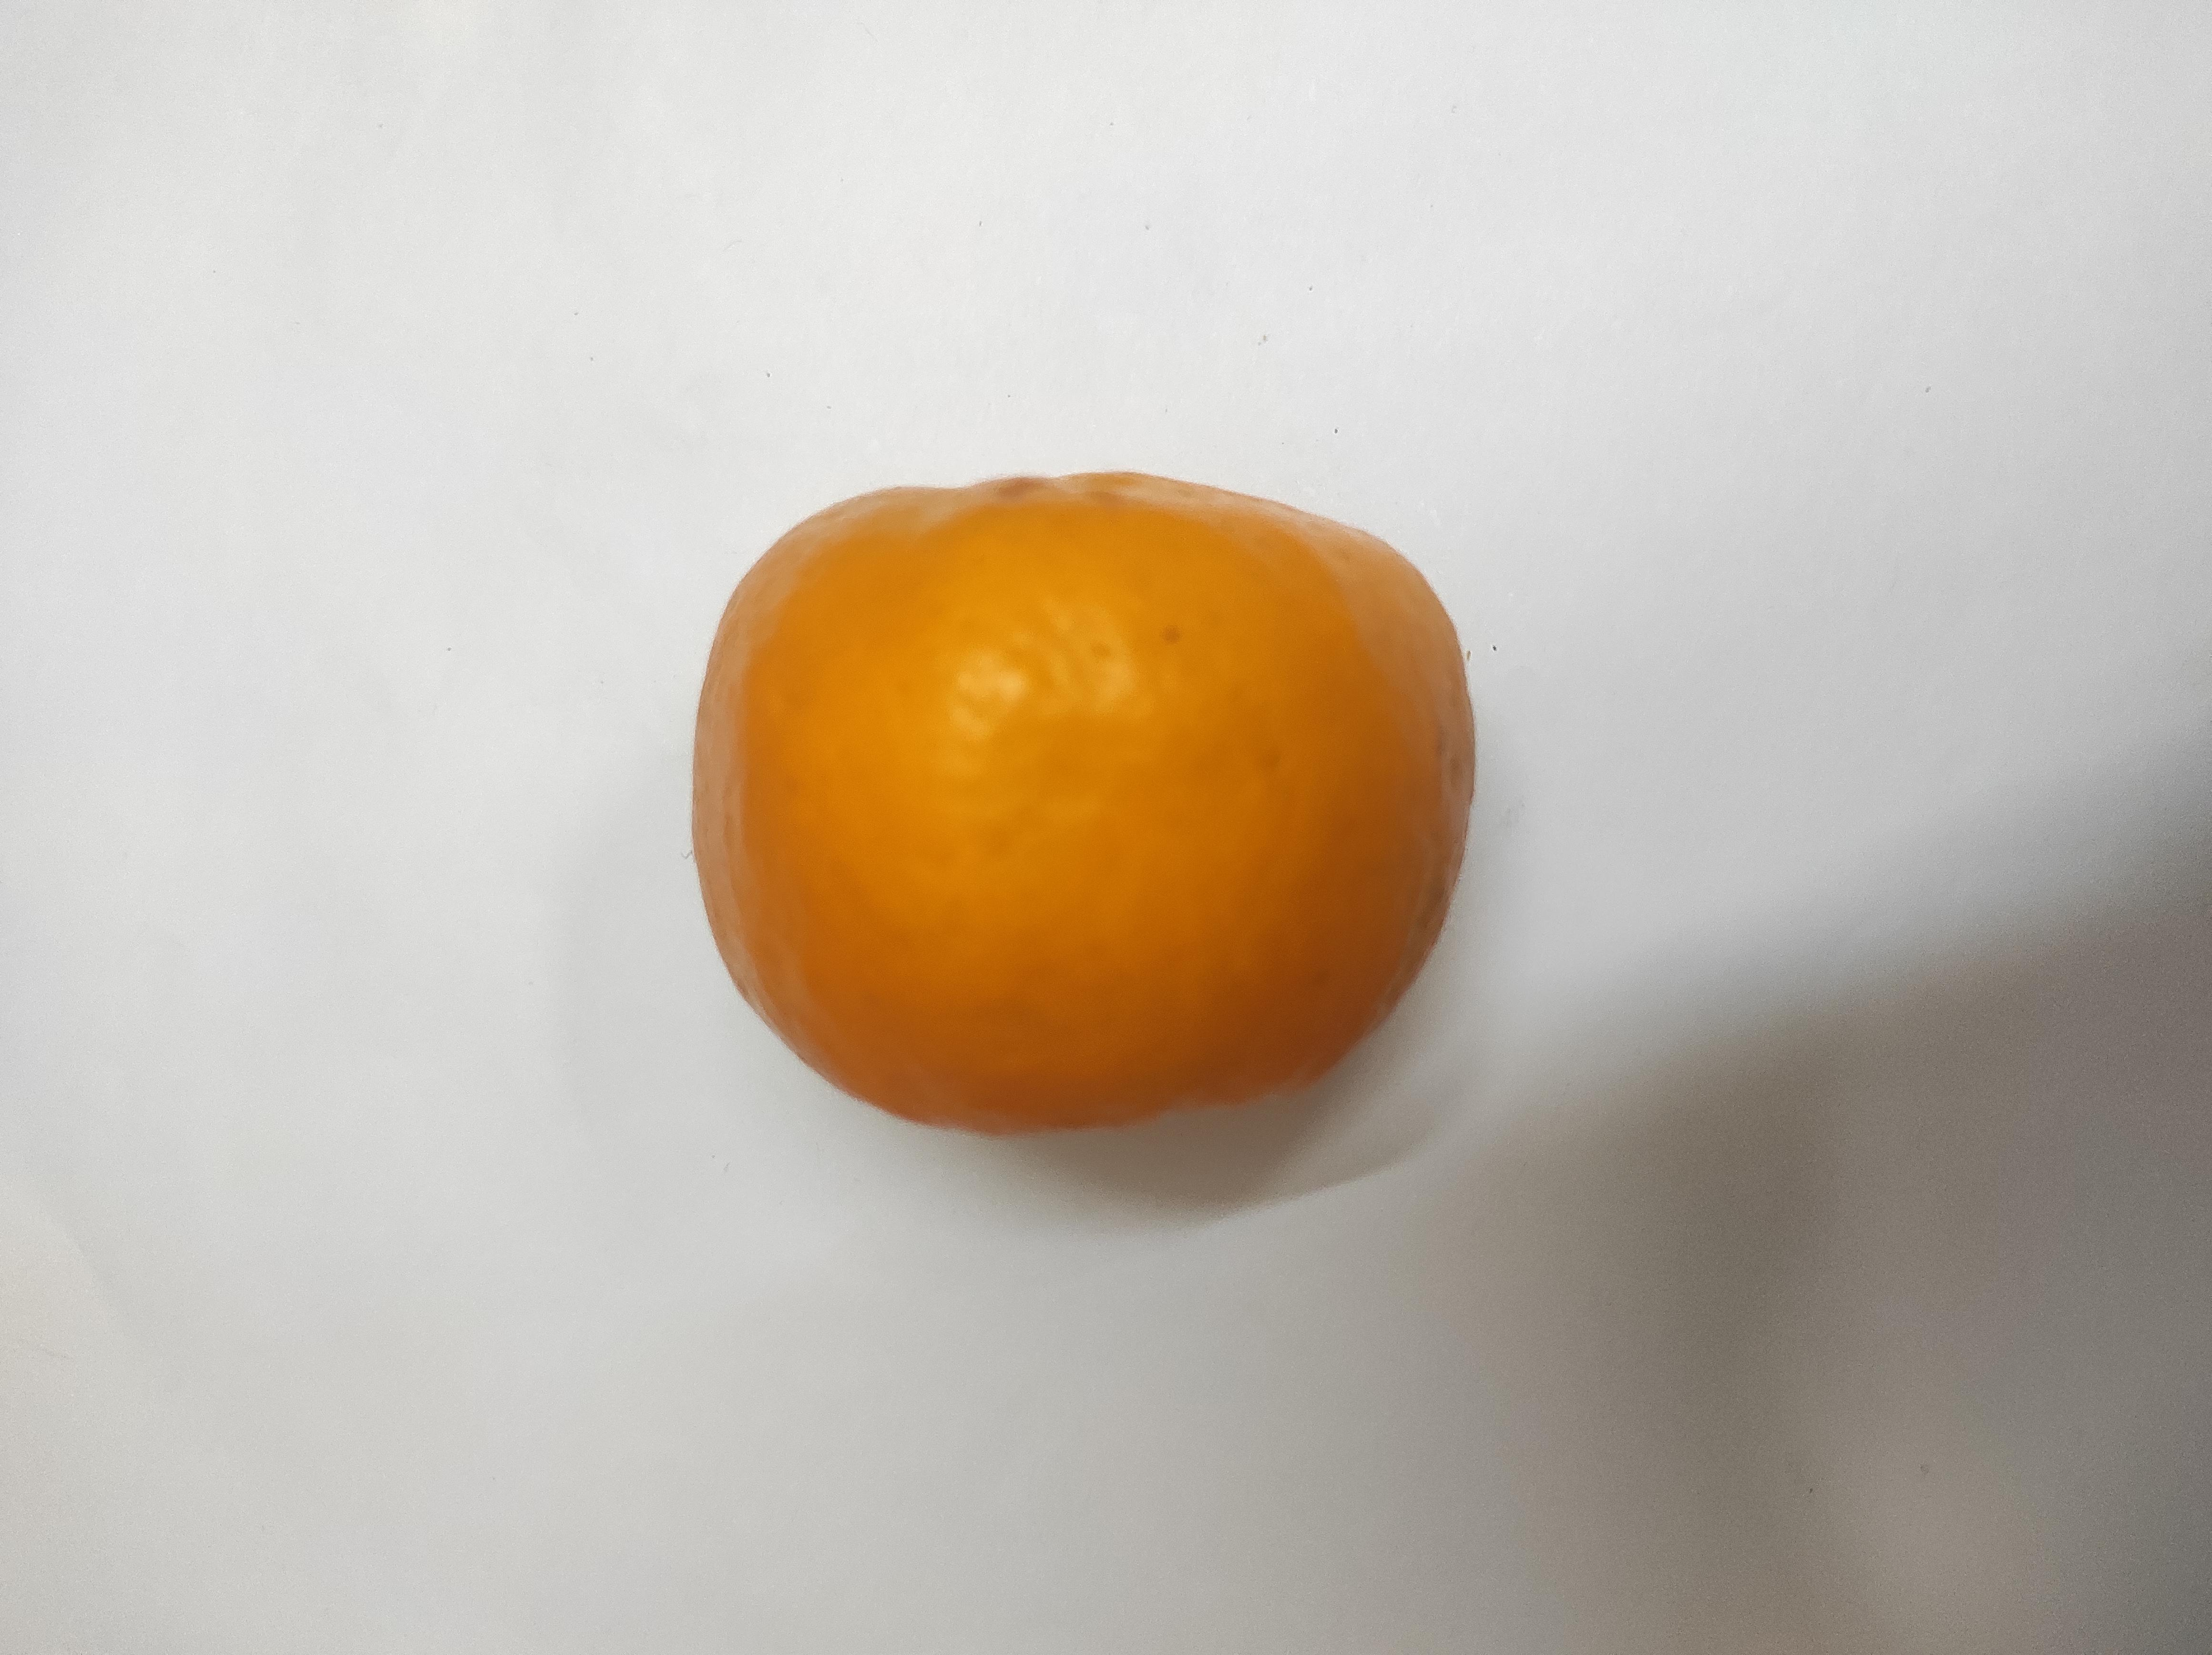Ripe: (687, 468, 1492, 1135)
